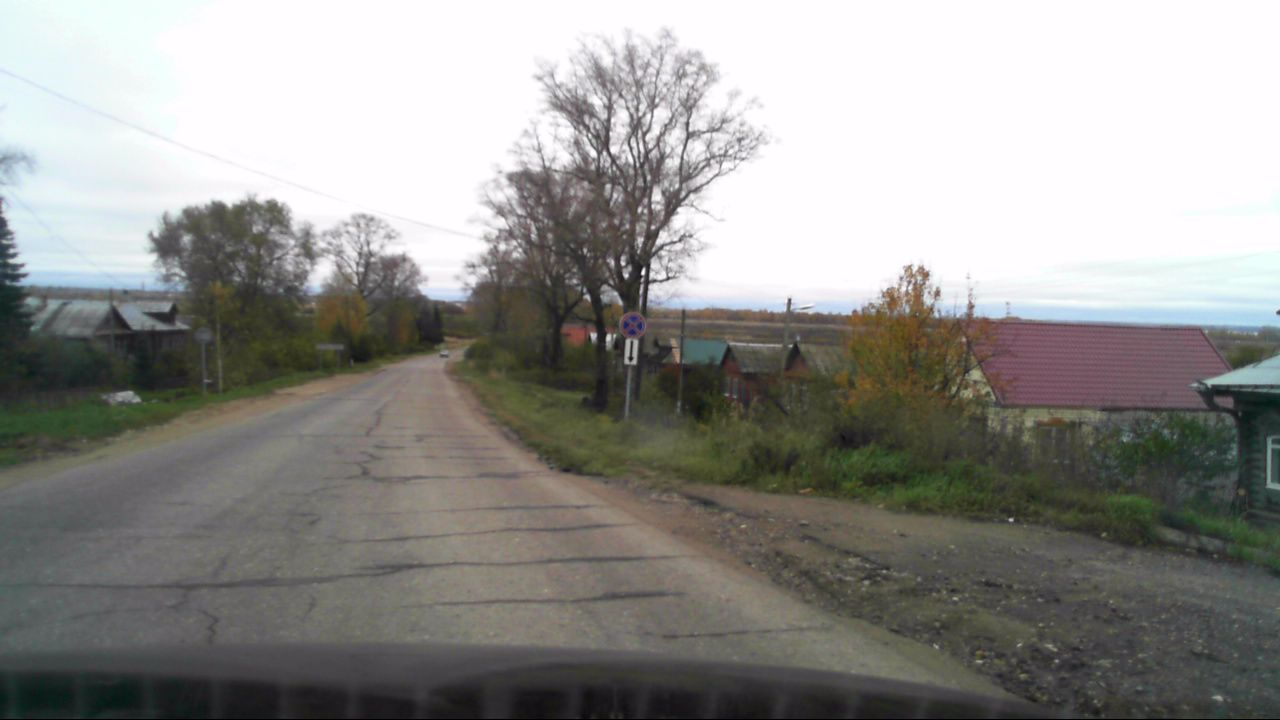No Parking: (617, 310, 647, 338)
